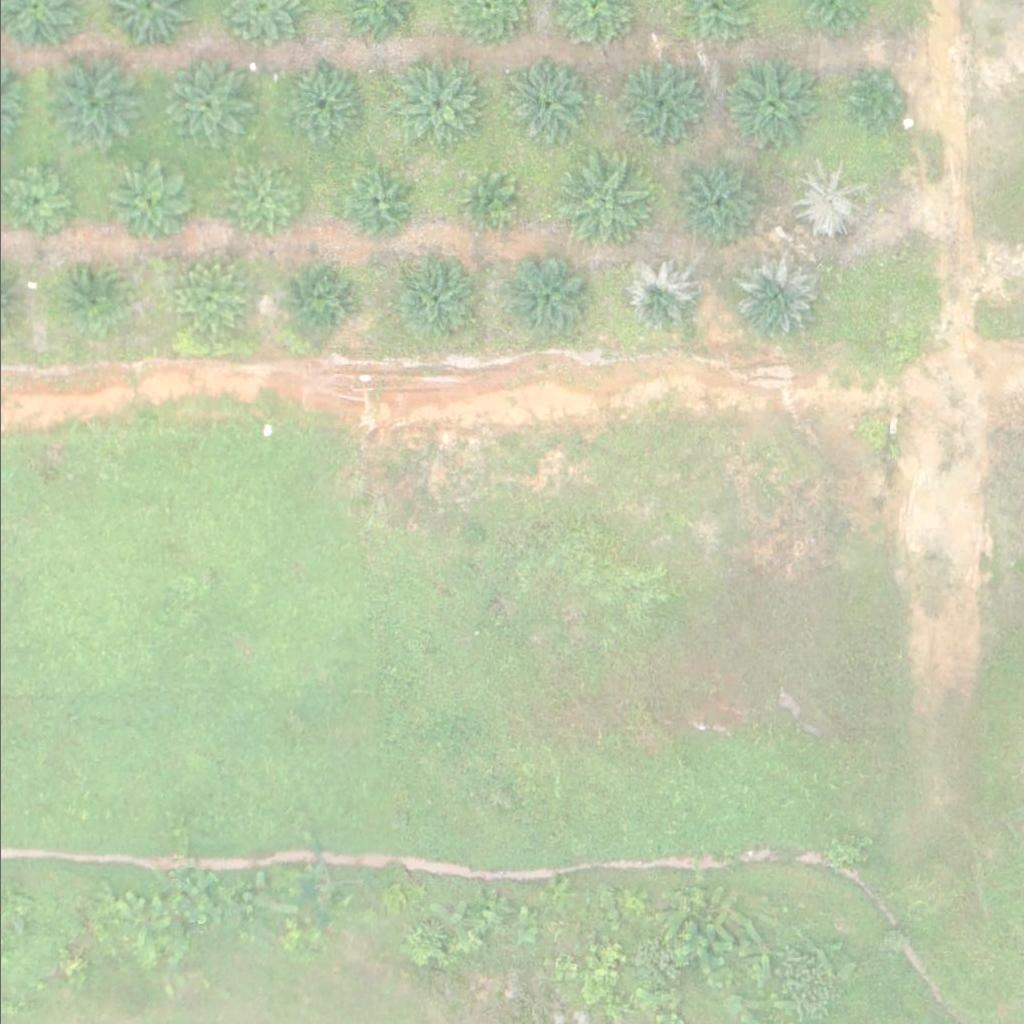Kelapa_Sawit: (39, 49, 140, 149), (719, 56, 819, 156), (665, 155, 765, 255), (551, 155, 651, 255), (273, 64, 362, 152), (729, 251, 817, 339), (499, 253, 587, 341), (388, 254, 476, 342), (160, 59, 248, 147), (107, 155, 195, 242), (614, 61, 702, 148), (498, 60, 586, 147), (388, 61, 476, 148), (790, 162, 866, 237), (620, 263, 696, 338), (336, 168, 411, 243), (173, 258, 248, 333), (281, 265, 356, 340), (225, 160, 300, 235), (62, 263, 125, 326), (453, 170, 516, 233), (844, 66, 906, 128)
